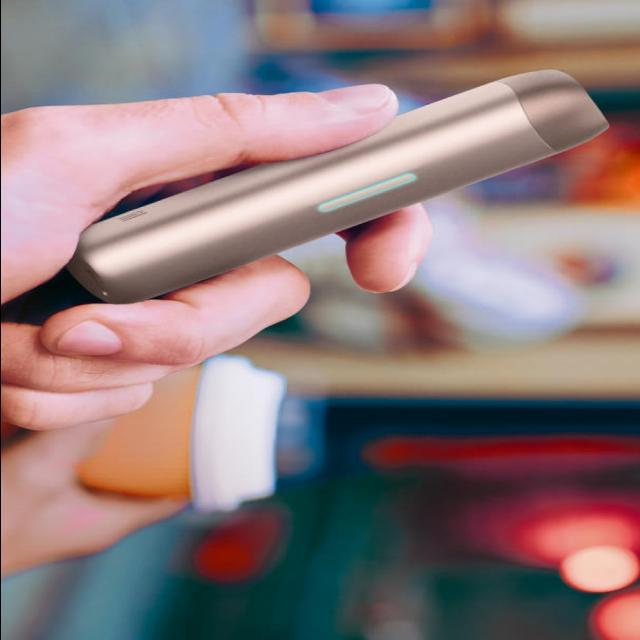Hazard: (63, 69, 611, 304)
